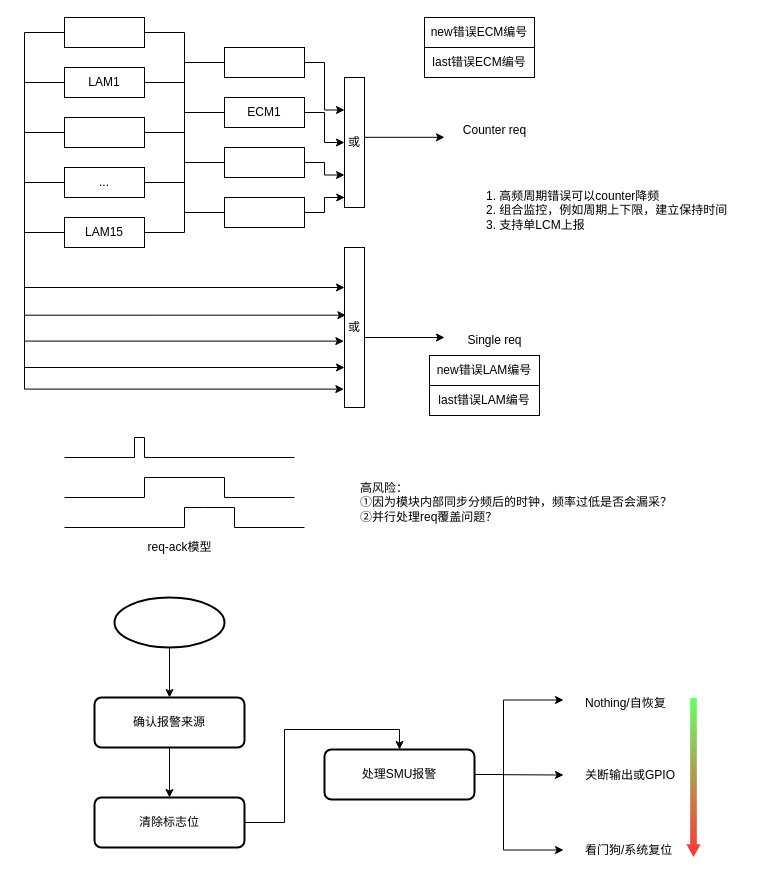
Image size: 762x882. Some labels were removed from this diagram. The centre of each missing label's shape, as x and y in pixels:
"ECM0" belongs at pixel 264 62.
"ECM2" belongs at pixel 264 162.
"ECM3" belongs at pixel 264 212.
"LAM0" belongs at pixel 104 32.
"LAM2" belongs at pixel 104 132.
"Start" belongs at pixel 169 622.
